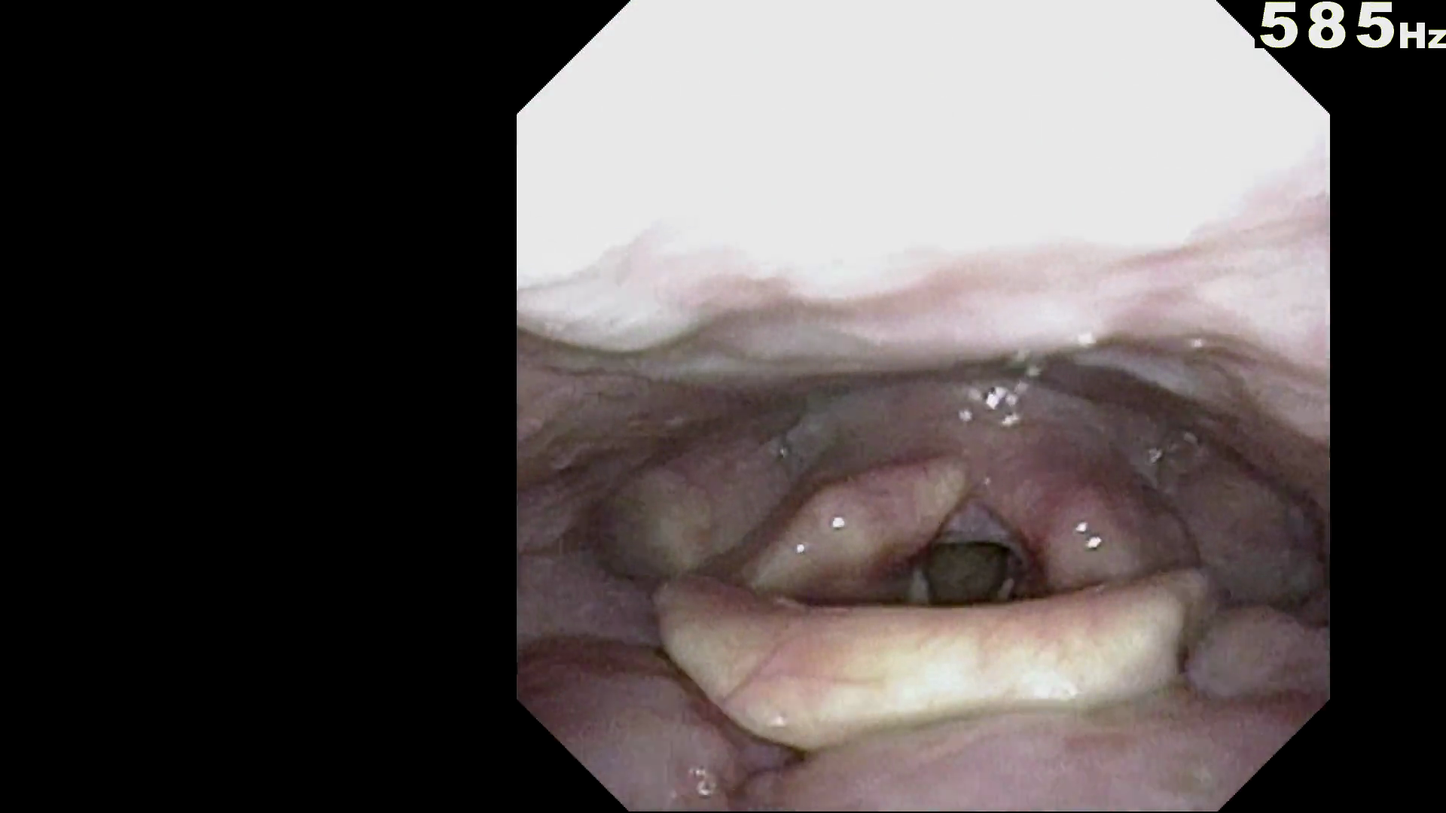epiglottis: (652, 596, 1193, 735)
trachea: (901, 533, 1030, 627)
